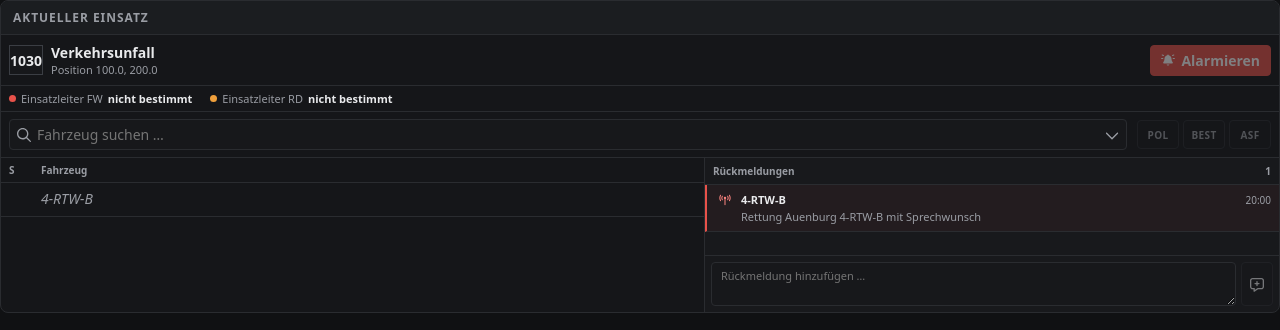
Scenario: Aktueller Einsatz › zeigt ein wieder alarmierbares Einsatzfahrzeug als frühere Beteiligung und merkt es per Klick erneut vor
Expected: the element with class "assigned" is shown, [1,183,704,217]
Click the button with aria-label "4-RTW-B erneut vormerken" at point(67, 199), box [41,192,662,208]
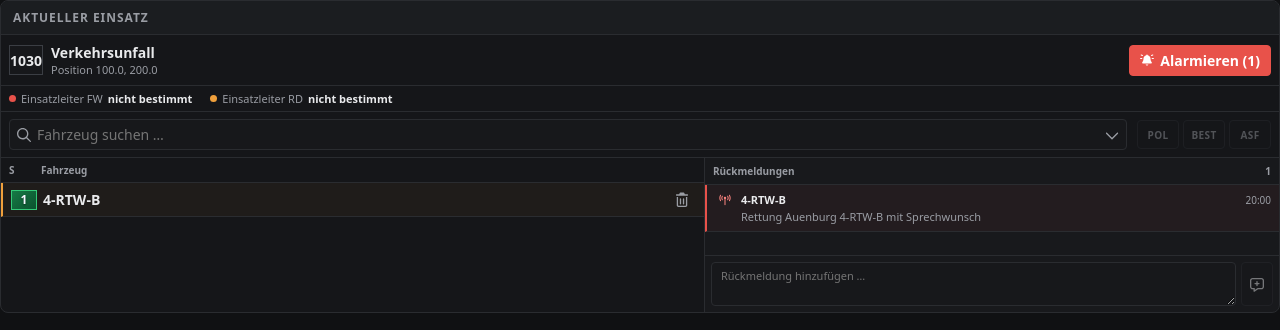
Expected: the element with class "assigned" is gone
Expected: the element with class "staged" is shown, [1,183,704,217]
Expected: the button named "4-RTW-B entfernen" is shown, [668,188,696,210]
